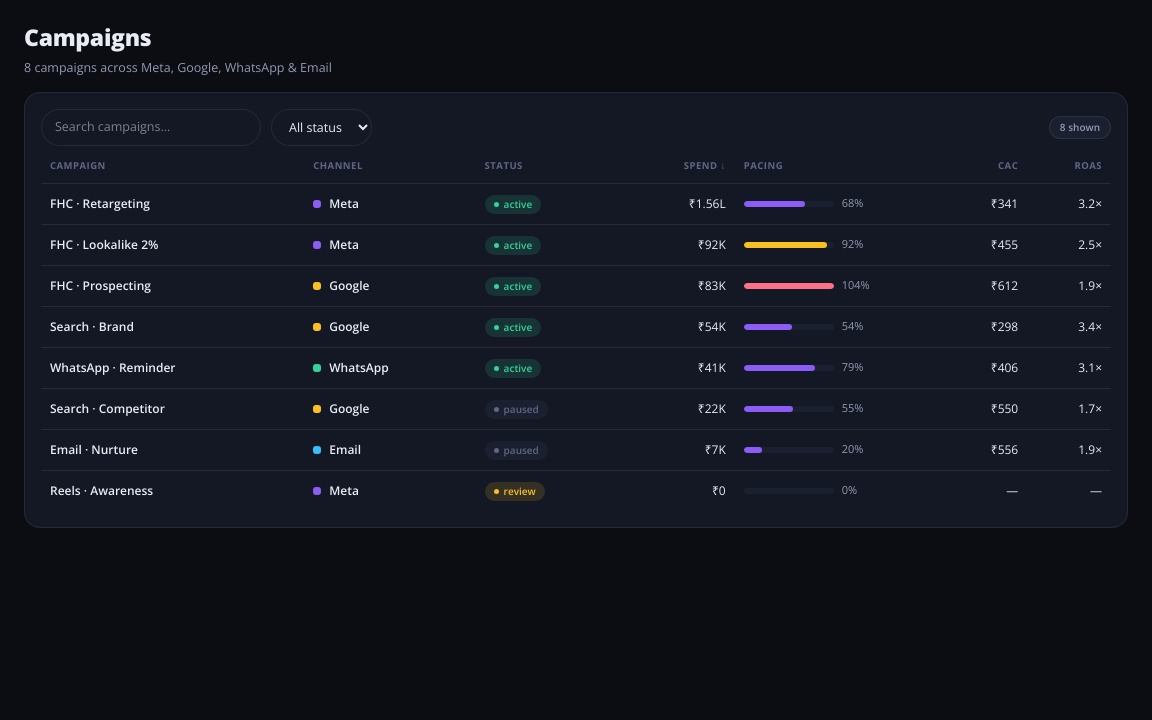
Test: CampaignsView › opens the detail drawer on row click
Click the text "FHC · Retargeting".
click(173, 204)  # box left=41, top=183, right=304, bottom=224
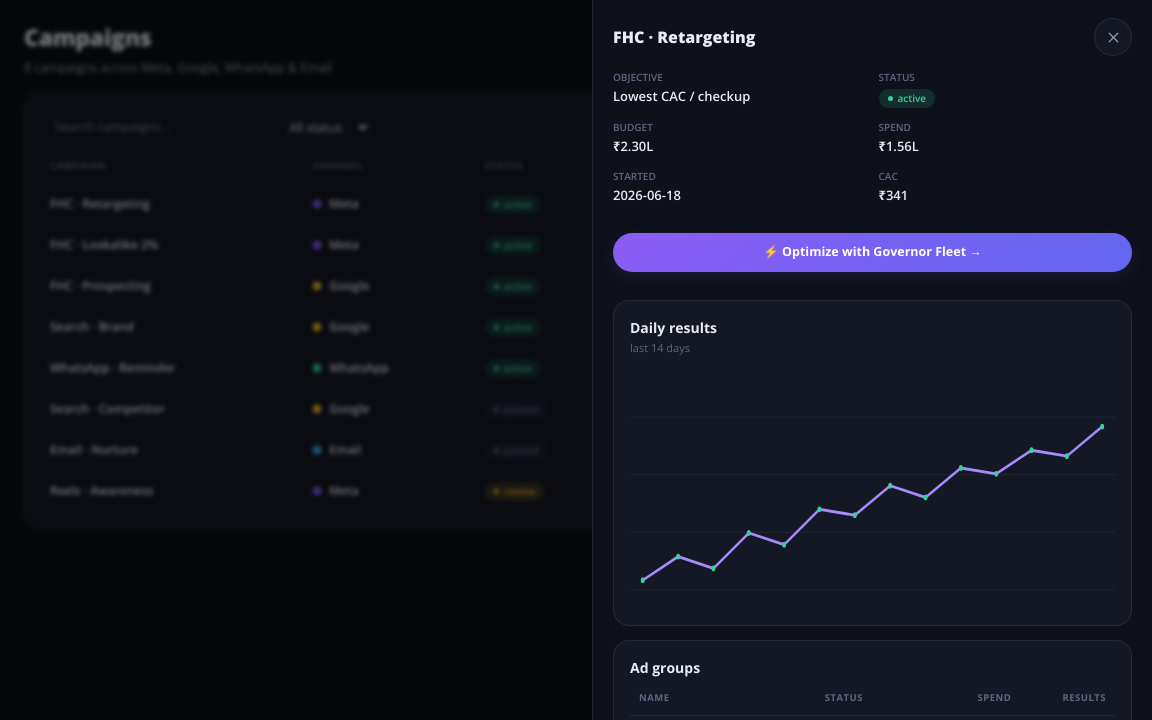
Now the heading "Ad groups" is shown, box left=630, top=657, right=700, bottom=678
Now the text "Lowest CAC / checkup" is shown, box left=613, top=87, right=750, bottom=105
